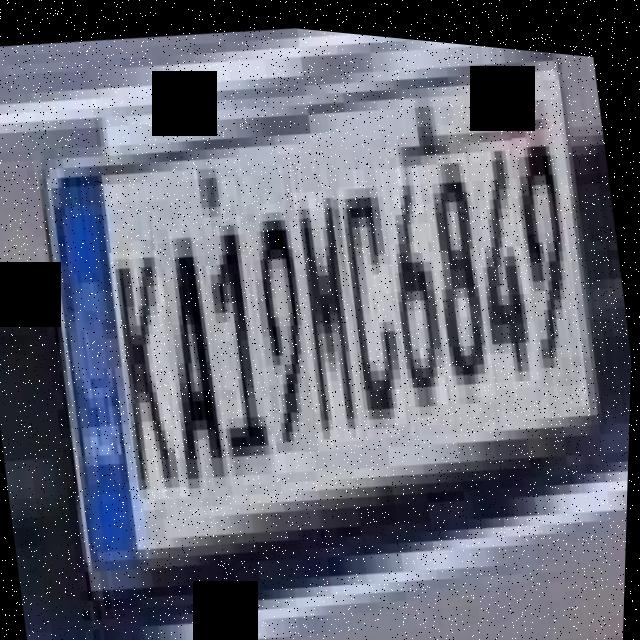1: (195, 213, 284, 466)
4: (461, 122, 548, 382)
6: (375, 156, 456, 401)
8: (416, 145, 504, 393)
9: (506, 115, 594, 380), (243, 203, 328, 453)
A: (153, 233, 241, 497)
C: (333, 174, 416, 421)
K: (106, 244, 198, 502)
M: (288, 182, 373, 441)
